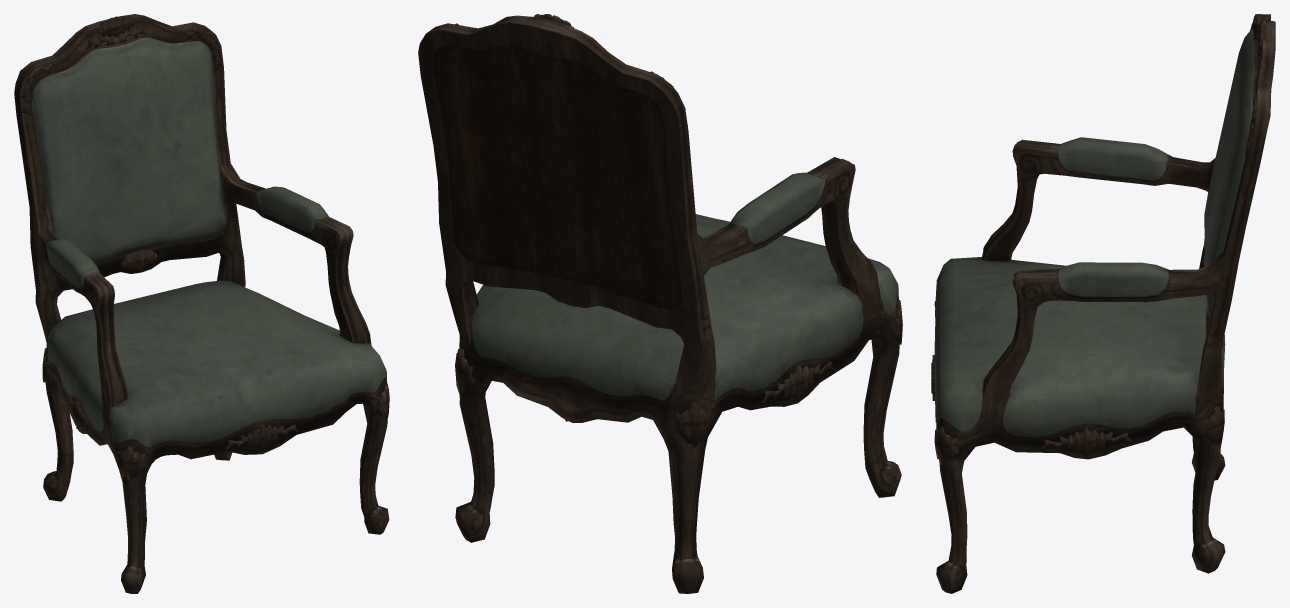
The model's file is greenchair-01.glb.
3 views of the same model, side by side, from view 1: azimuth 30°, elevation 25°; view 2: azimuth 150°, elevation 25°; view 3: azimuth 270°, elevation 25° (orthographic). The views are drawn at different scales.
Visible parts, largest first — view 1: GreenChair_01; view 2: GreenChair_01; view 3: GreenChair_01.
Part boxes in pixels (left/top/right/bottom): GreenChair_01: left=14, top=14, right=389, bottom=593; GreenChair_01: left=418, top=14, right=902, bottom=593; GreenChair_01: left=931, top=14, right=1275, bottom=593.
Size of the model in its own units: 0.6732 by 1.06 by 0.6644.
Materials: 1 (1 with a texture image).
